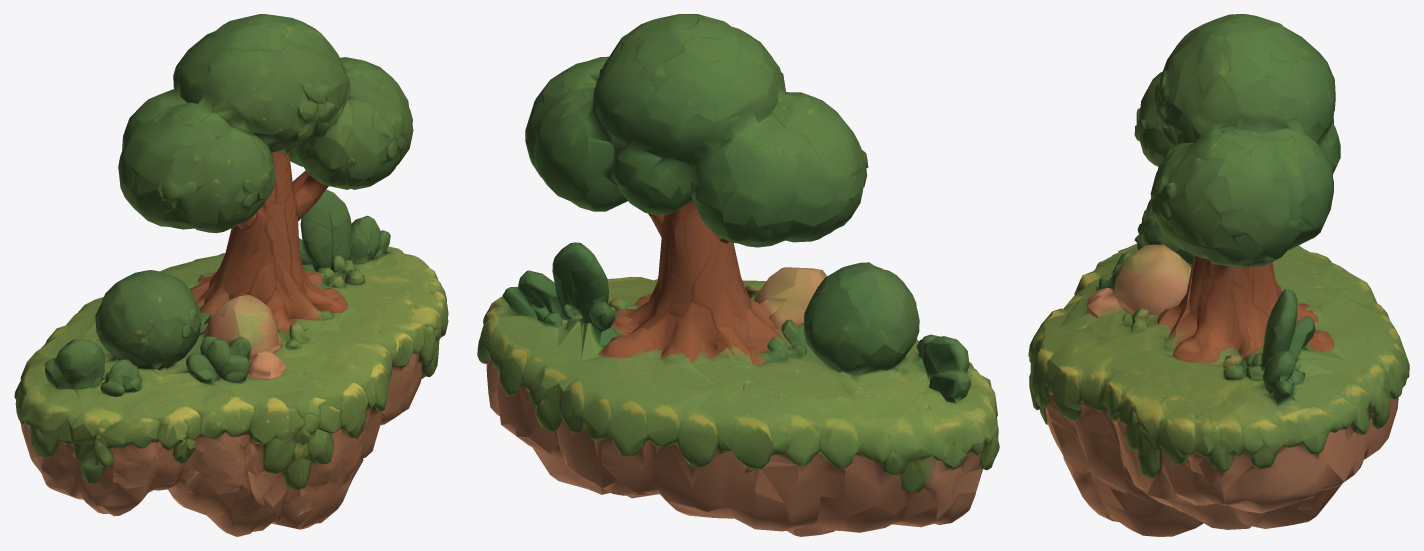
Rendered from forest-grove.glb.
3 views of the same model, side by side, from view 1: azimuth 30°, elevation 25°; view 2: azimuth 150°, elevation 25°; view 3: azimuth 270°, elevation 25° (orthographic). The views are drawn at different scales.
Size of the model in its own units: 1.85 by 1.9 by 1.3.
1 material, 1 textured.
